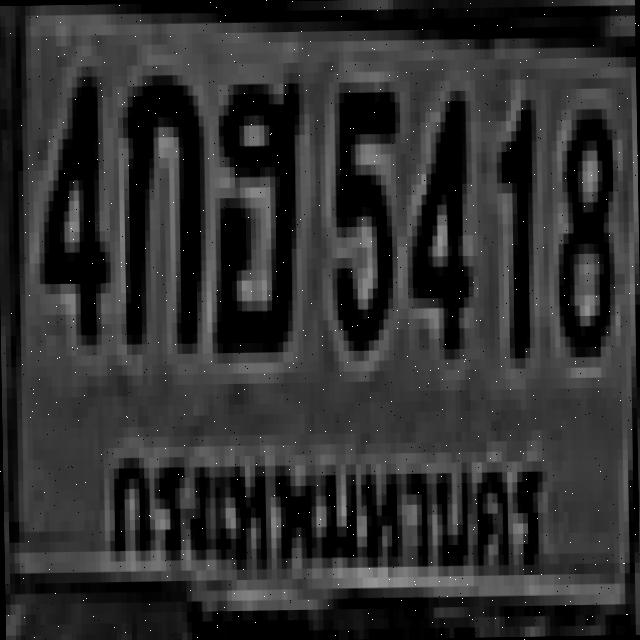1: (495, 89, 535, 348)
10GorGai: (117, 64, 202, 344)
4: (36, 66, 101, 336), (404, 80, 464, 350)
5: (328, 81, 398, 340)
53HorNokHook: (208, 72, 302, 342)
8: (553, 98, 613, 346)
Bangkok: (94, 426, 561, 604)
